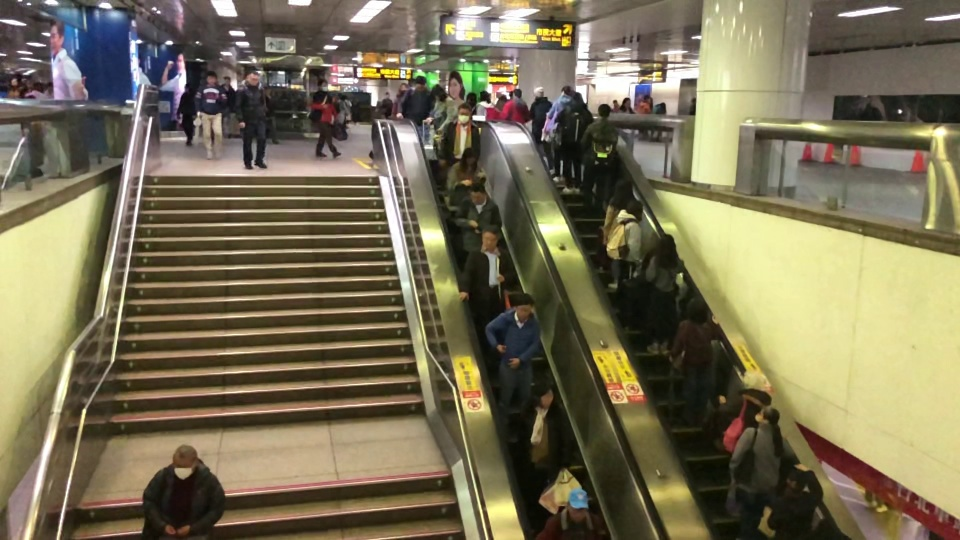person_head: (171, 442, 197, 477), (533, 378, 557, 407), (513, 292, 535, 321), (567, 494, 587, 521), (753, 405, 780, 424), (482, 223, 501, 248), (785, 467, 804, 491), (687, 297, 705, 322), (741, 369, 763, 389), (658, 233, 676, 253), (470, 182, 486, 204), (615, 178, 634, 195), (457, 103, 471, 123), (461, 146, 477, 163), (627, 200, 644, 216), (597, 103, 610, 117), (432, 84, 444, 98), (205, 71, 217, 84), (317, 78, 329, 91), (247, 71, 258, 84), (10, 75, 20, 89), (398, 82, 407, 96), (32, 81, 43, 92), (416, 76, 426, 88), (561, 84, 571, 96), (512, 87, 522, 98), (534, 87, 544, 98), (622, 97, 632, 108), (571, 93, 581, 104), (183, 82, 192, 91), (479, 91, 488, 100), (224, 75, 232, 84), (643, 95, 649, 101), (660, 101, 665, 107)
person_vbox: (485, 292, 542, 432), (143, 443, 224, 540), (669, 297, 722, 425), (728, 405, 794, 505), (520, 378, 572, 480), (457, 223, 515, 313), (645, 232, 683, 357), (718, 369, 771, 455), (581, 103, 619, 218), (768, 464, 822, 540), (602, 177, 634, 289), (558, 92, 592, 194), (454, 181, 502, 252), (235, 71, 269, 170), (606, 199, 644, 286), (535, 494, 605, 540), (444, 102, 480, 189), (195, 71, 227, 160), (310, 78, 344, 159), (444, 146, 487, 210), (547, 83, 571, 182), (530, 86, 556, 175), (403, 75, 431, 141), (424, 83, 456, 137), (176, 81, 194, 147), (500, 87, 530, 124), (619, 98, 640, 146), (222, 78, 235, 138), (650, 100, 665, 144), (391, 82, 407, 117), (476, 91, 495, 118), (24, 81, 44, 98), (635, 94, 651, 114), (7, 75, 20, 96), (689, 97, 695, 114)
